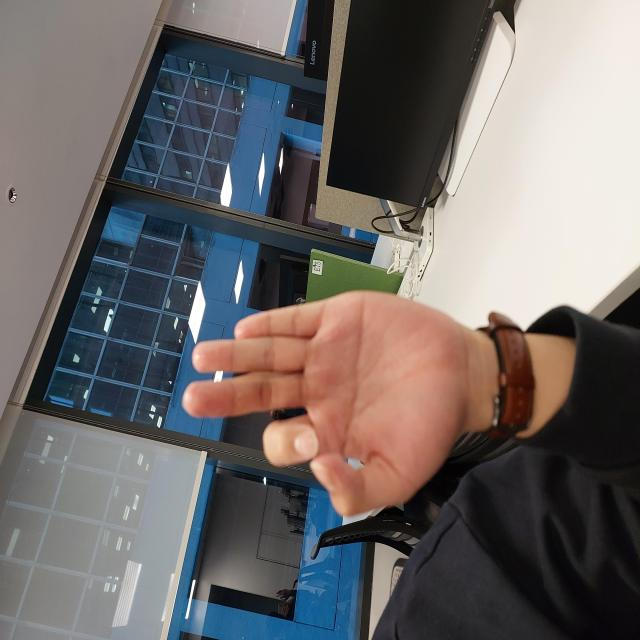F: (125, 181, 350, 457)
